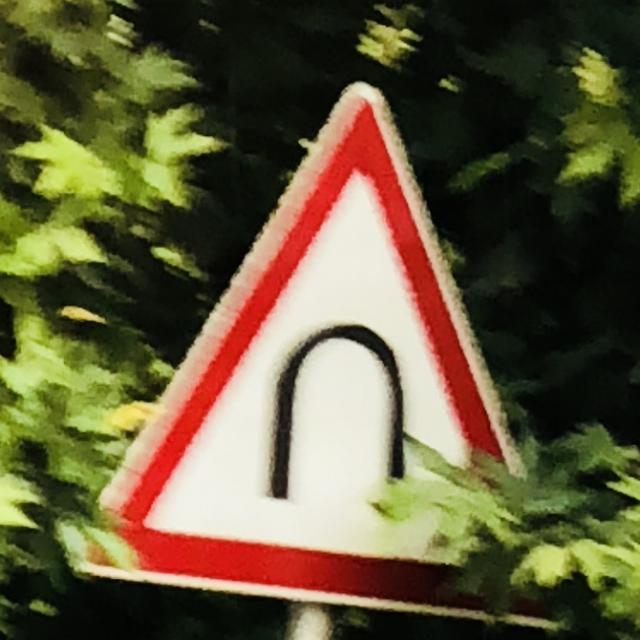u turn: (62, 80, 542, 621)
